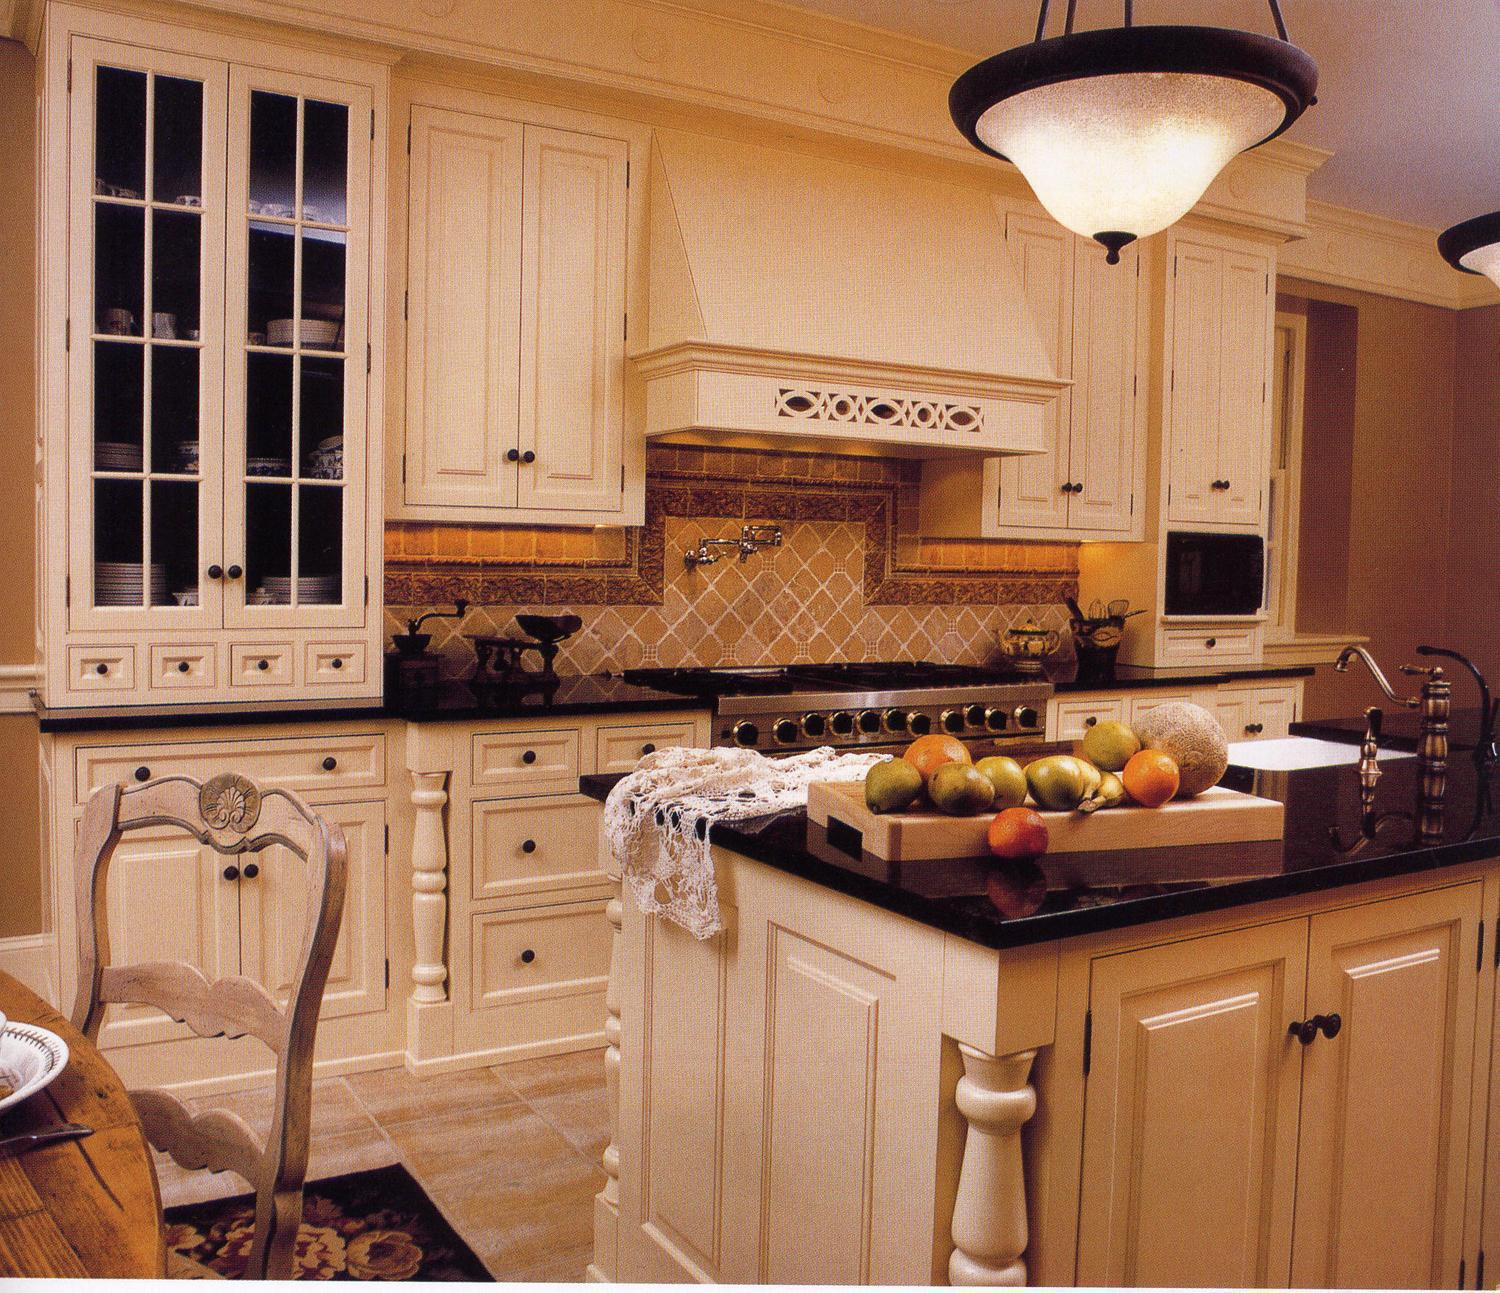Electrodomestico: (687, 653, 1054, 740)
Lavaplatos: (1203, 644, 1476, 775)
